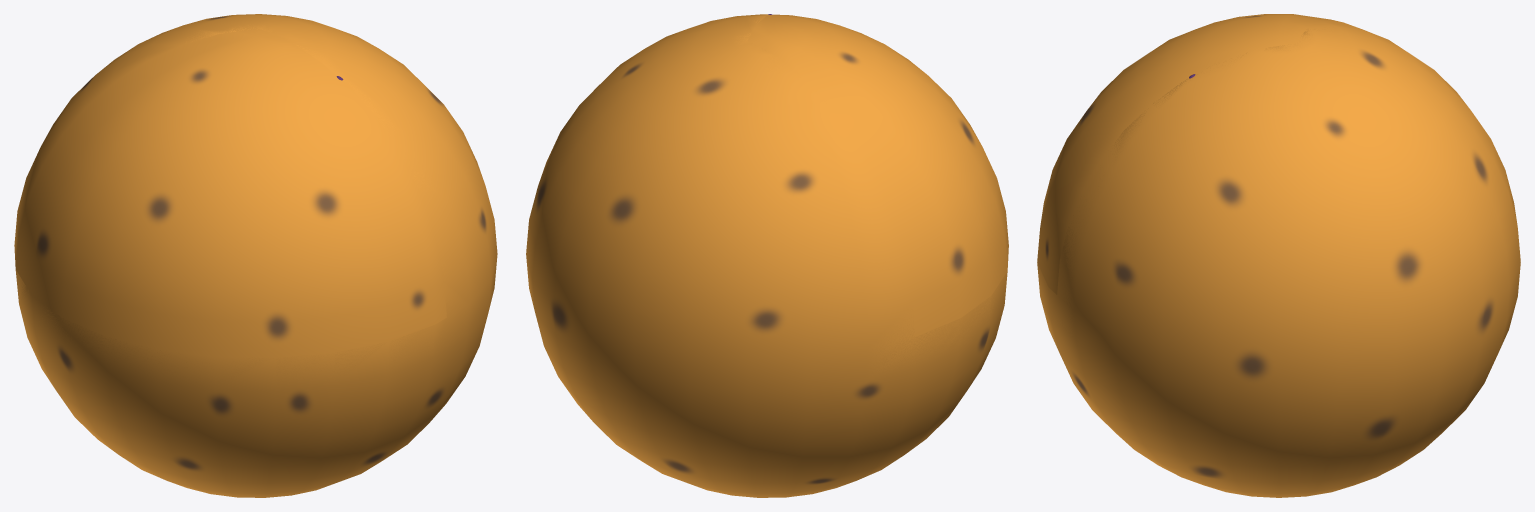
File: TBNT_DV.fbx
The picture shows the model from 3 angles, left to right: view 1: azimuth 30°, elevation 25°; view 2: azimuth 150°, elevation 25°; view 3: azimuth 270°, elevation 25°; orthographic projection.
Parts seen in each view (by area): view 1: Mang_sinh_chat_full, Mang_sinh_chat; view 2: Mang_sinh_chat_full, Mang_sinh_chat; view 3: Mang_sinh_chat_full, Mang_sinh_chat.
Boxes of the visible parts, x1,y1,x2,y2 form: Mang_sinh_chat_full: (14,14,497,497); Mang_sinh_chat: (15,23,469,389); Mang_sinh_chat_full: (526,14,1008,497); Mang_sinh_chat: (731,14,1007,381); Mang_sinh_chat_full: (1037,14,1520,497); Mang_sinh_chat: (1037,26,1342,341).
Size of the model in its own units: 149 by 150 by 149.
Materials: 1 (1 with a texture image).
